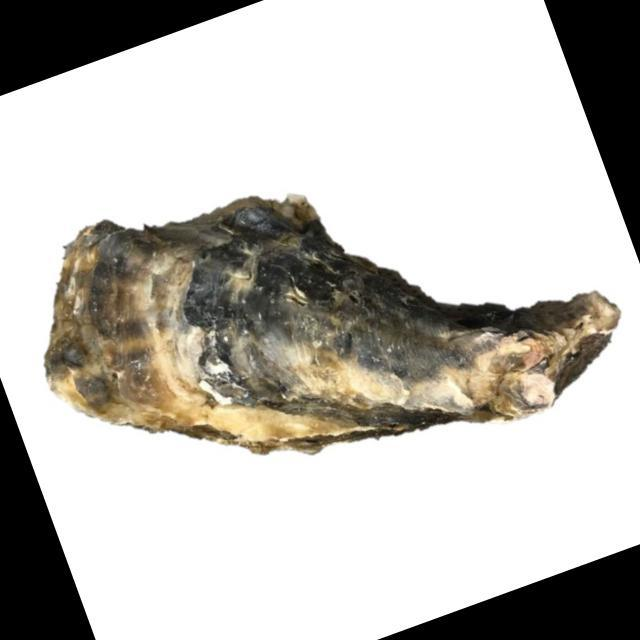Oyster- Indeterminate: (43, 195, 621, 456)
